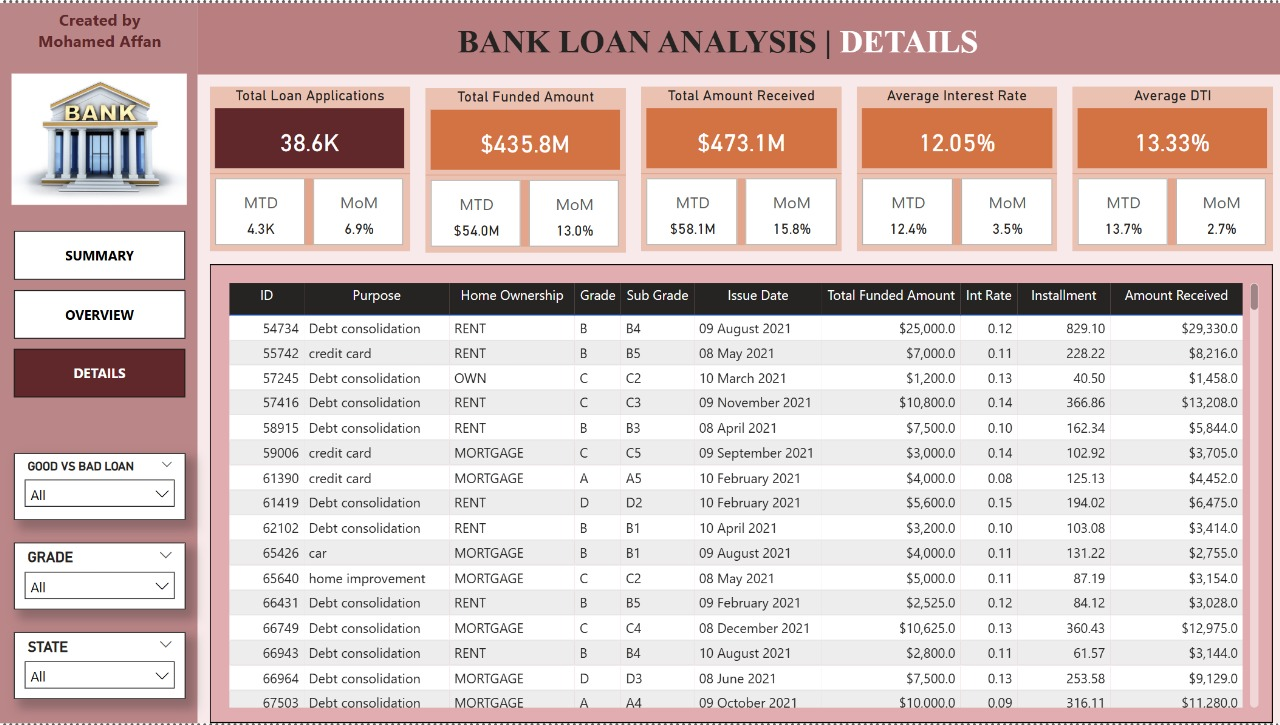

What the dashboard file says about the page in this screenshot:
{"tool":"powerbi","page":{"name":"DETAILS","canvas":[1280,720],"ordinal":2},"visuals":[{"type":"shape","box":[0,0,1280.3,71.2],"z":0},{"type":"cardVisual","title":"Total Loan Applications","fields":{"Data":["bank_loan_data.Total Loan Applications"]},"box":[209.1,83.3,200,87.1],"z":0,"group":"g1"},{"type":"cardVisual","title":"Total Amount Received","fields":{"Data":["bank_loan_data.Total Amount Received"]},"box":[639.4,83.3,200,87.1],"z":0,"group":"g3"},{"type":"cardVisual","title":"Average Interest Rate","fields":{"Data":["bank_loan_data.Average Interest Rate"]},"box":[854.5,83.3,200,87.1],"z":0,"group":"g4"},{"type":"cardVisual","title":"Average DTI","fields":{"Data":["bank_loan_data.Average DTI"]},"box":[1069.7,83.3,200,87.1],"z":0,"group":"g5"},{"type":"cardVisual","title":"Total Funded Amount","fields":{"Data":["bank_loan_data.Total Funded Amount"]},"box":[424.2,84.8,200,87.1],"z":0,"group":"g2"},{"type":"shape","box":[0,0,197,721.2],"z":1000},{"type":"cardVisual","fields":{"Data":["bank_loan_data.MTD Loan Applications","bank_loan_data.MoM Total Loan Applications"]},"box":[209.1,170.4,200,77.9],"z":1000,"group":"g1"},{"type":"cardVisual","fields":{"Data":["bank_loan_data.MTD Total Amount Received","bank_loan_data.MoM Total Amount Received"]},"box":[639.4,170.4,200,77.9],"z":1000,"group":"g3"},{"type":"cardVisual","fields":{"Data":["bank_loan_data.MTD Average Interest Rate","bank_loan_data.MoM Average Interest Rate"]},"box":[854.5,170.4,200,77.9],"z":1000,"group":"g4"},{"type":"cardVisual","fields":{"Data":["bank_loan_data.MTD Average DTI","bank_loan_data.MoM Average DTI"]},"box":[1069.7,170.4,200,77.9],"z":1000,"group":"g5"},{"type":"cardVisual","fields":{"Data":["bank_loan_data.MTD Total Funded Amount","bank_loan_data.MoM Total Funded Amount"]},"box":[424.2,171.9,200,77.9],"z":1000,"group":"g2"},{"type":"textbox","box":[410.6,15.2,610.6,56.1],"z":2000},{"type":"group","id":"g1","title":"Group 1","box":[209.1,83.3,200,165],"z":3000},{"type":"group","id":"g2","title":"Group 1","box":[424.2,84.8,200,165.2],"z":4000},{"type":"group","id":"g3","title":"Group 1","box":[639.4,83.3,200,165.2],"z":5000},{"type":"group","id":"g4","title":"Group 1","box":[854.5,83.3,200,165],"z":6000},{"type":"group","id":"g5","title":"Group 1","box":[1069.7,83.3,200,165],"z":7000},{"type":"slicer","title":"  STATE","fields":{"Values":["bank_loan_data.address_state"]},"box":[13.6,628.8,171.2,66.7],"z":8000},{"type":"slicer","title":"  STATE","fields":{"Values":["bank_loan_data.grade"]},"box":[13.6,539.4,171.2,66.7],"z":9000},{"type":"slicer","title":"  STATE","fields":{"Values":["bank_loan_data.Good vs Bad Loan"]},"box":[13.6,450,171.2,66.7],"z":10000},{"type":"shape","box":[209.1,260.6,1060.6,459.1],"z":11000},{"type":"tableEx","fields":{"Values":["bank_loan_data.id","bank_loan_data.purpose","bank_loan_data.home_ownership","bank_loan_data.grade","bank_loan_data.sub_grade","bank_loan_data.issue_date","bank_loan_data.Total Funded Amount","Sum(bank_loan_data.int_rate)","Sum(bank_loan_data.installment)","bank_loan_data.Total Amount Received"]},"box":[222.7,274.2,1037.9,434.9],"z":12000},{"type":"textbox","box":[6.1,0,190.9,71.2],"z":13000},{"type":"image","box":[6.1,60.6,184.8,150],"z":14000},{"type":"pageNavigator","box":[13.6,227.3,171.2,168.2],"z":15000}]}

Visuals, with their boxes in screenshot pixels (x1, y1, x2, y2), scaled from the page's 1280x720 canvas onto the 1280x725 screenshot:
shape: 0,0,1279,72
"Total Loan Applications" cardVisual: 209,84,409,172
"Total Amount Received" cardVisual: 639,84,839,172
"Average Interest Rate" cardVisual: 854,84,1054,172
"Average DTI" cardVisual: 1070,84,1270,172
"Total Funded Amount" cardVisual: 424,85,624,173
shape: 0,0,197,724
cardVisual - bank_loan_data.MTD Loan Applications x bank_loan_data.MoM Total Loan Applications: 209,172,409,250
cardVisual - bank_loan_data.MTD Total Amount Received x bank_loan_data.MoM Total Amount Received: 639,172,839,250
cardVisual - bank_loan_data.MTD Average Interest Rate x bank_loan_data.MoM Average Interest Rate: 854,172,1054,250
cardVisual - bank_loan_data.MTD Average DTI x bank_loan_data.MoM Average DTI: 1070,172,1270,250
cardVisual - bank_loan_data.MTD Total Funded Amount x bank_loan_data.MoM Total Funded Amount: 424,173,624,252
textbox: 411,15,1021,72
"Group 1" group: 209,84,409,250
"Group 1" group: 424,85,624,252
"Group 1" group: 639,84,839,250
"Group 1" group: 854,84,1054,250
"Group 1" group: 1070,84,1270,250
"  STATE" slicer: 14,633,185,700
"  STATE" slicer: 14,543,185,610
"  STATE" slicer: 14,453,185,520
shape: 209,262,1270,724
tableEx - bank_loan_data.id x bank_loan_data.purpose: 223,276,1261,714
textbox: 6,0,197,72
image: 6,61,191,212
pageNavigator: 14,229,185,398
